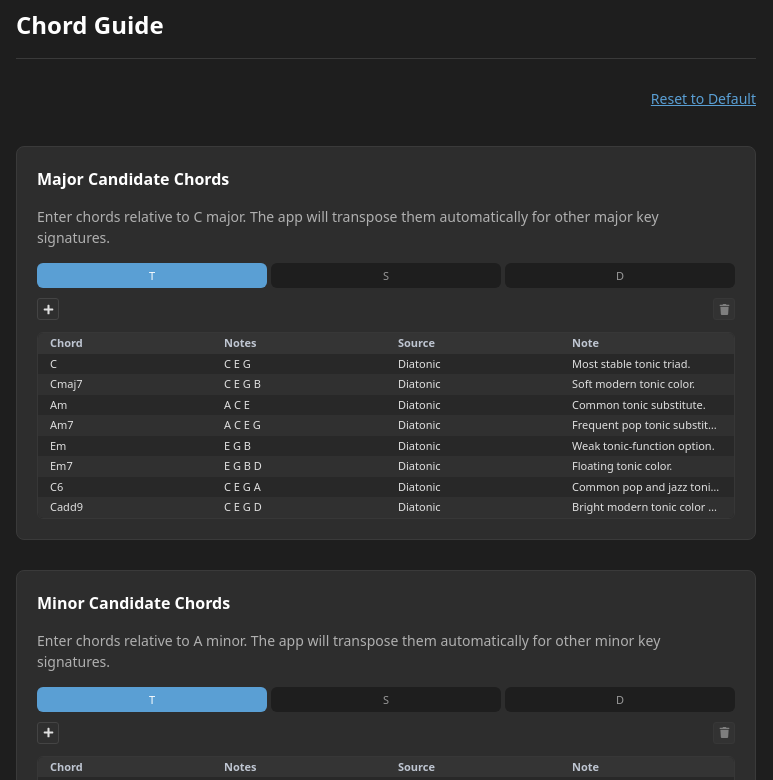
Scenario: ChordGuideSettings › switches T/S/D tabs as a mutex control
Expected: the heading "Major Candidate Chords" is shown, x1=37 y1=167 x2=229 y2=191
Expected: the cell titled "C" is shown, x1=38 y1=354 x2=212 y2=374
Step 1. Click the button "S" below "Major Candidate Chords" → click(386, 276), box x1=271 y1=263 x2=501 y2=288
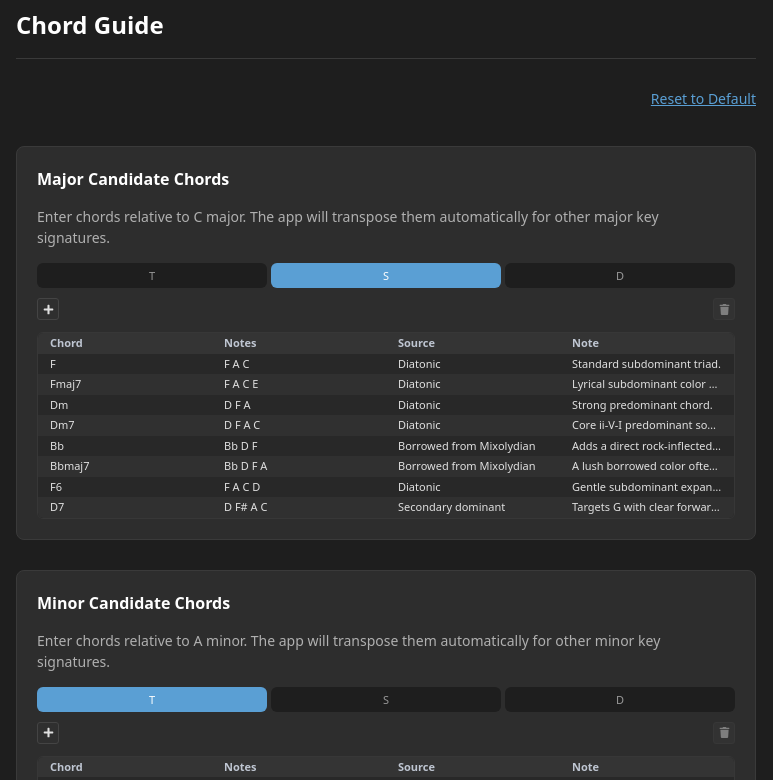
Now the cell titled "Fmaj7" is shown, box x1=38 y1=374 x2=212 y2=394
Now the cell "Cmaj7" is gone
